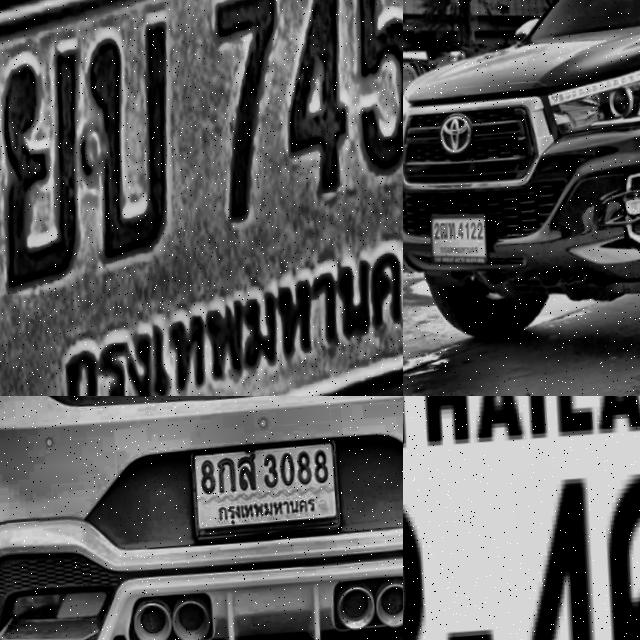license-plate: (0, 0, 403, 396), (403, 396, 640, 640), (188, 434, 350, 545), (423, 205, 502, 286)
